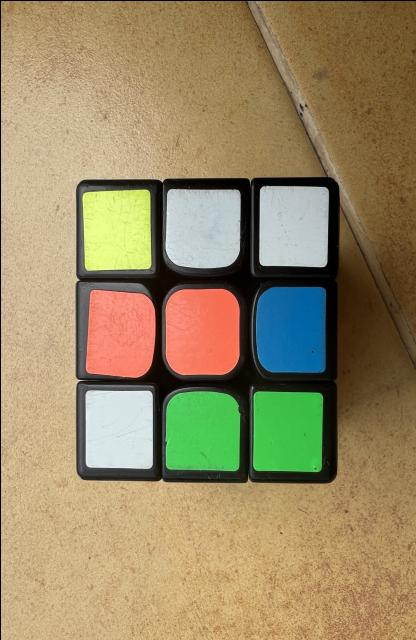Blue: (255, 286, 325, 371)
Green: (165, 390, 239, 470), (252, 390, 322, 471)
Orange: (165, 288, 239, 375), (84, 289, 155, 376)
White: (165, 188, 239, 268), (258, 185, 328, 266), (84, 389, 152, 468)
Yellow: (81, 189, 151, 270)
